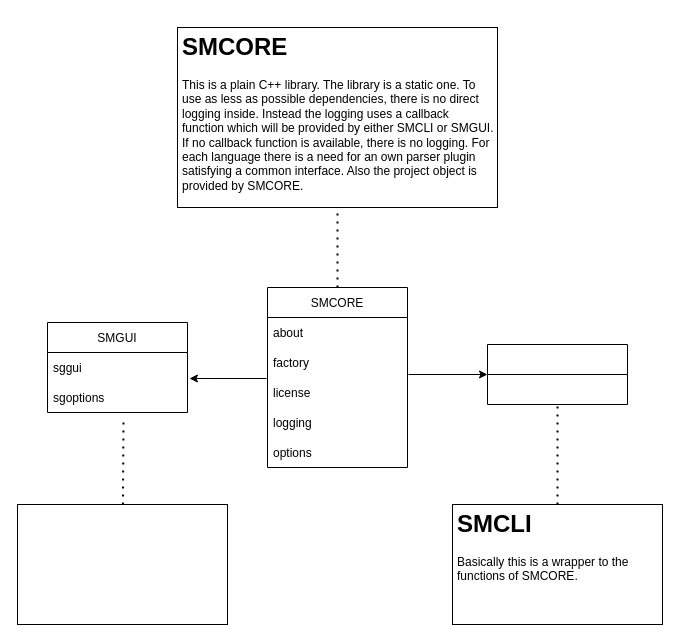
This 680x642 diagram has some shape labels left out. The box of each missing label's shape, as (x1, y1, x2, y2) in pixels:
SMCLI: (486, 344, 628, 404)
SMGUI SMGUI is plain QT. Basically it's a wrapper to the functions of SMCORE.: (16, 504, 228, 624)
